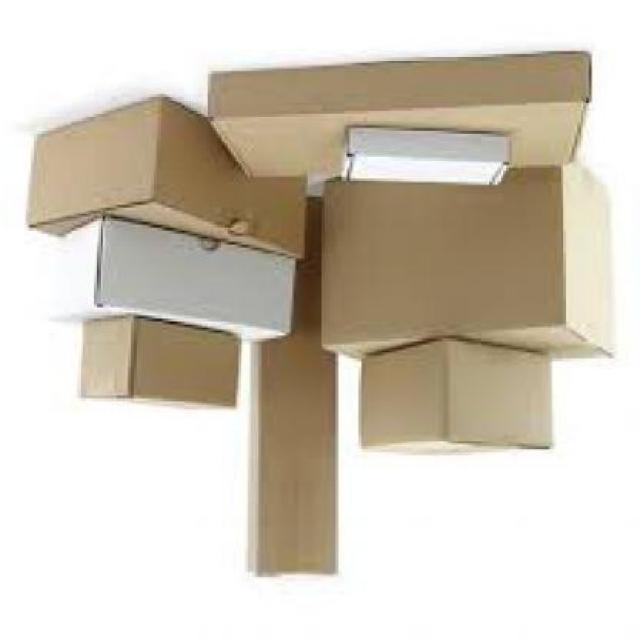box: (328, 151, 620, 366), (211, 57, 595, 180), (31, 97, 302, 260), (251, 200, 342, 582), (54, 220, 298, 348), (362, 339, 556, 459), (80, 320, 245, 418), (345, 129, 516, 191)
